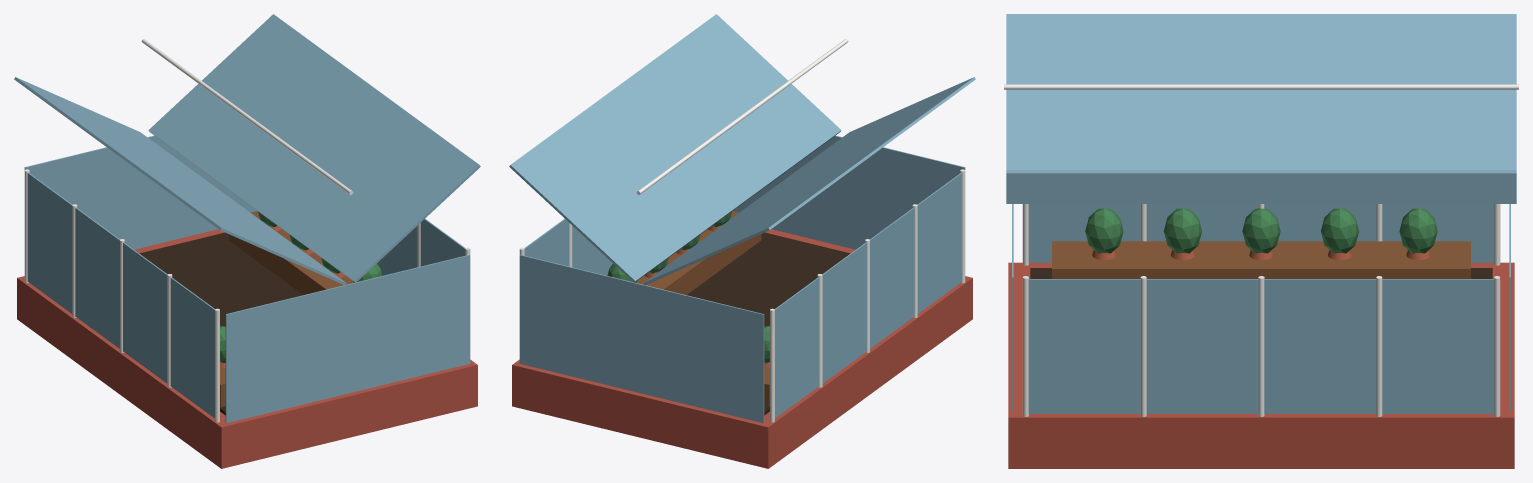
Rendered from greenhouse-glass.glb.
The picture shows the model from 3 angles, left to right: view 1: azimuth 30°, elevation 25°; view 2: azimuth 150°, elevation 25°; view 3: azimuth 270°, elevation 25°; orthographic projection. The views are drawn at different scales.
Parts seen in each view (by area): view 1: Cube.007, Cube.004, Cube, Cube.002, Cube.005, Cube.006, Cube.001, Cube.003, Cube.009, Cylinder.010, Cylinder; view 2: Cube.007, Cube.005, Cube, Cube.002, Cube.004, Cube.006, Cube.001, Cube.003, Cube.009, Cylinder.010, Cylinder.004; view 3: Cube.006, Cube.003, Cube, Cube.007, Cube.008, Cube.002, Cylinder.010, Icosphere, Icosphere.004, Icosphere.002, Icosphere.001, Icosphere.003 (+5 smaller).
Boxes of the visible parts, x1,y1,x2,y2 form: Cube.007: (148,14,480,282); Cube.004: (225,254,470,423); Cube: (17,229,477,468); Cube.002: (27,173,214,418); Cube.005: (24,135,256,249); Cube.006: (14,77,346,285); Cube.001: (139,232,303,415); Cube.003: (377,218,465,275); Cube.009: (228,211,353,294); Cylinder.010: (141,39,353,194); Cylinder: (215,308,219,422); Cube.007: (509,14,841,282); Cube.005: (519,254,764,423); Cube: (512,229,972,468); Cube.002: (775,173,962,418); Cube.004: (733,135,965,249); Cube.006: (643,77,975,285); Cube.001: (686,232,850,415); Cube.003: (524,218,612,275); Cube.009: (636,211,761,294); Cylinder.010: (636,39,848,194); Cylinder.004: (770,308,774,422); Cube.006: (1006,14,1516,169); Cube.003: (1028,279,1494,413); Cube: (1008,262,1514,468); Cube.007: (1006,170,1516,203); Cube.008: (1052,241,1470,278); Cube.002: (1028,204,1494,262); Cylinder.010: (1004,84,1518,89); Icosphere: (1085,208,1123,253); Icosphere.004: (1399,208,1437,253); Icosphere.002: (1242,208,1280,253); Icosphere.001: (1163,208,1201,253); Icosphere.003: (1321,208,1359,253).
Size of the model in its own units: 4.27 by 3.88 by 5.9.
